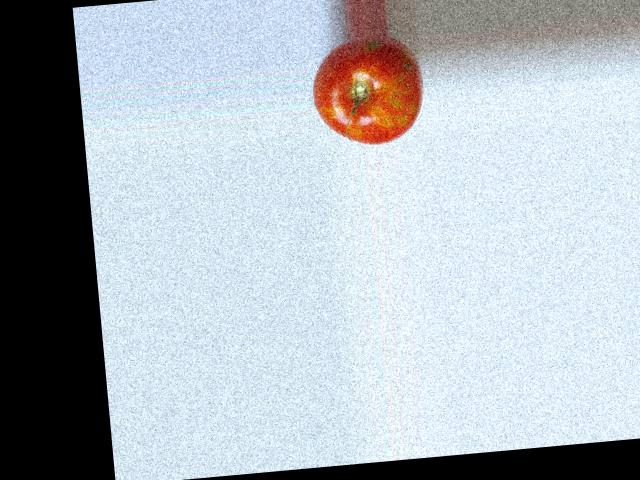tomato: (308, 33, 427, 149)
